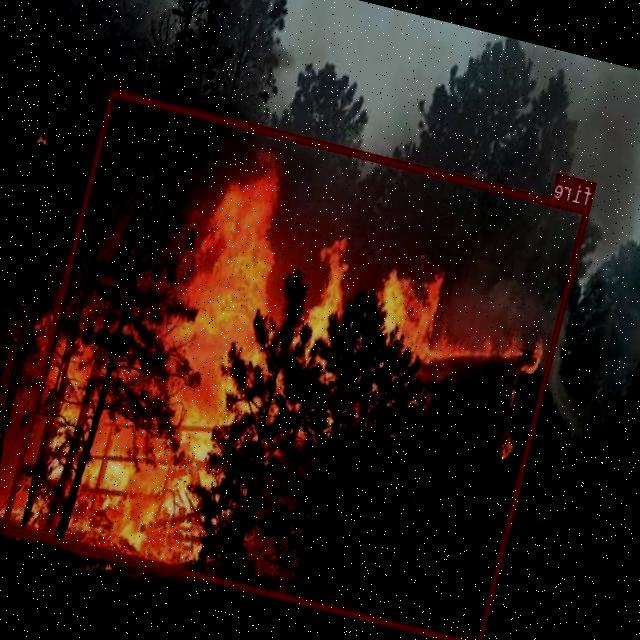fire: (3, 87, 590, 640)
